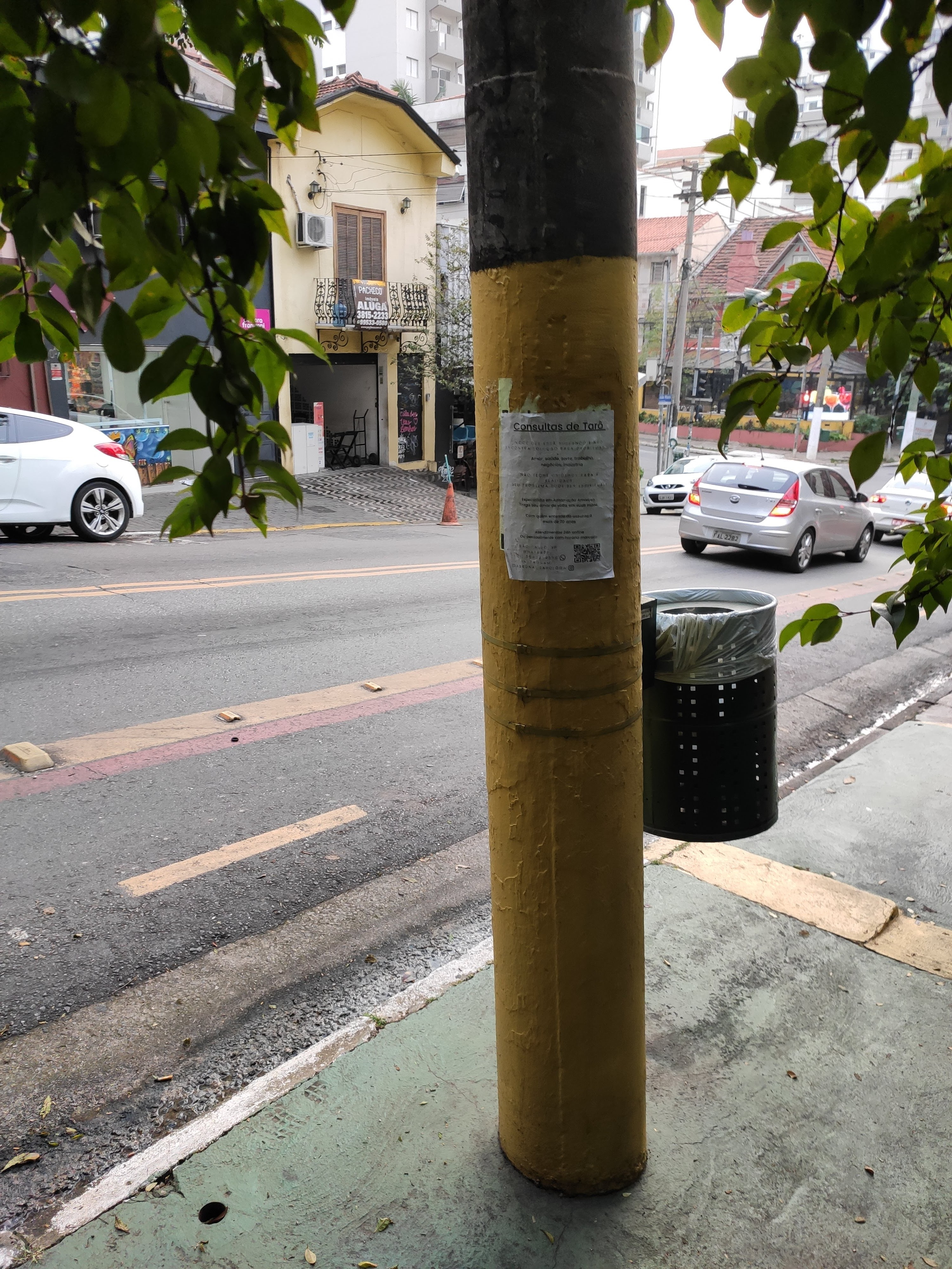QR-CODE: (574, 543, 600, 563)
